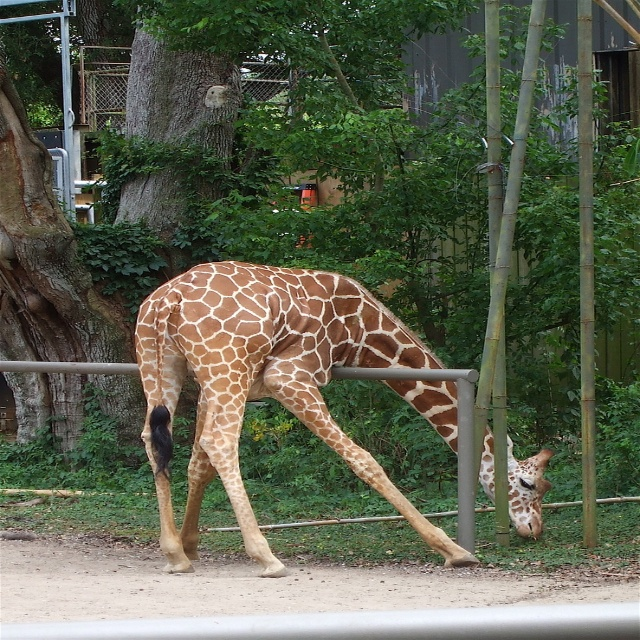Giraffe: (137, 264, 556, 574)
